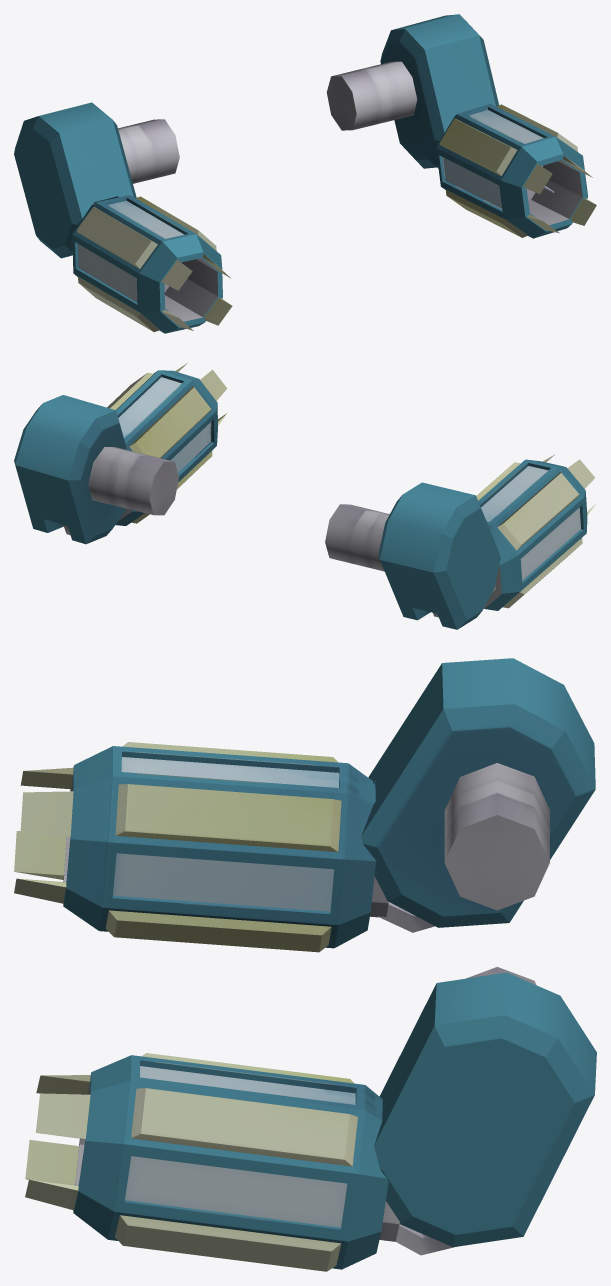
File: player_arm_attack8.obj
3 renders of one model, top to bottom at view 1: azimuth 30°, elevation 25°; view 2: azimuth 150°, elevation 25°; view 3: azimuth 270°, elevation 25°, orthographic. The views are drawn at different scales.
Visible parts, largest first — view 1: Object009, Object010, Object007, Object008, Object005, Object006; view 2: Object007, Object009, Object008, Object010, Object005, Object006; view 3: Object009, Object010, Object008, Object007, Object006.
Part boxes in pixels (<box>): Object009: <box>72,195,232,333</box>; Object010: <box>436,104,596,238</box>; Object007: <box>14,102,136,258</box>; Object008: <box>380,14,498,168</box>; Object005: <box>326,61,417,130</box>; Object006: <box>118,119,179,183</box>; Object007: <box>378,482,500,629</box>; Object009: <box>433,454,596,617</box>; Object008: <box>14,395,126,544</box>; Object010: <box>63,363,227,535</box>; Object005: <box>88,447,178,515</box>; Object006: <box>325,504,389,571</box>; Object009: <box>14,742,434,952</box>; Object010: <box>25,1053,454,1271</box>; Object008: <box>374,972,596,1247</box>; Object007: <box>361,658,595,927</box>; Object006: <box>444,763,549,910</box>.
Size of the model in its own units: 175 by 55.08 by 111.
2 materials, 1 textured.
